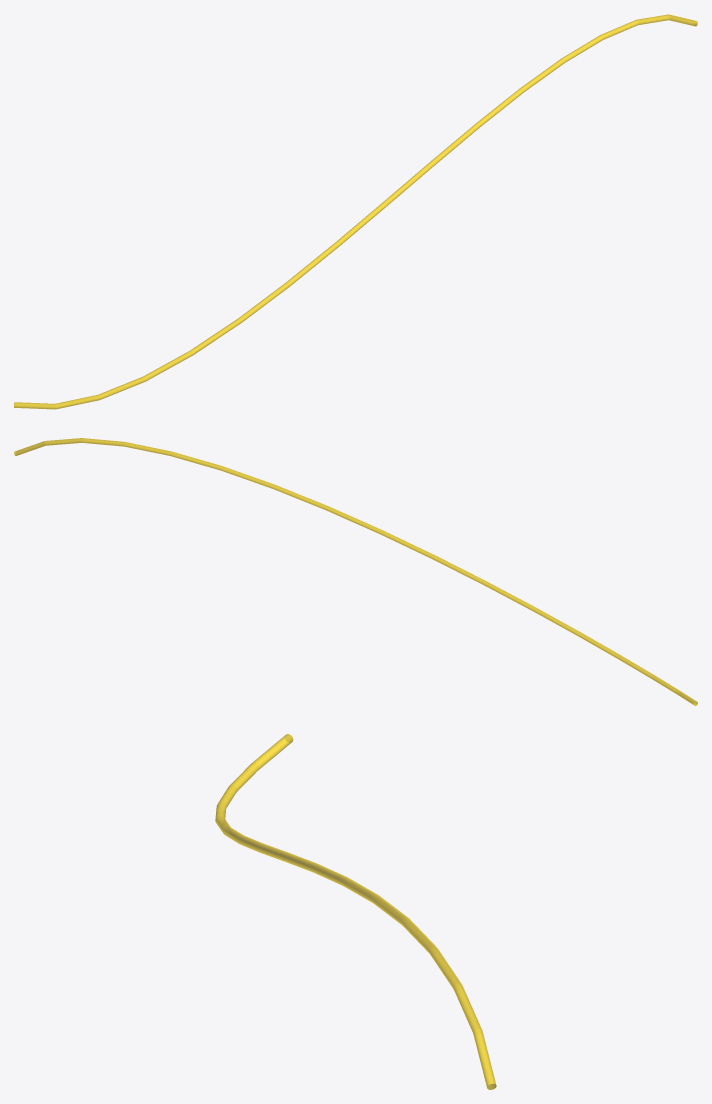
Rendered from Event_100608114_track_47.fbx.
3 renders of one model, top to bottom at view 1: azimuth 30°, elevation 25°; view 2: azimuth 150°, elevation 25°; view 3: azimuth 270°, elevation 25°, orthographic. The views are drawn at different scales.
Parts seen in each view (by area): view 1: Model; view 2: Model; view 3: Model.
Part boxes in pixels (x1,y1,x2,y2): Model: (14,14,697,409); Model: (14,438,697,705); Model: (215,734,496,1089).
Size of the model in its own units: 5.98 by 1.46 by 1.15.
